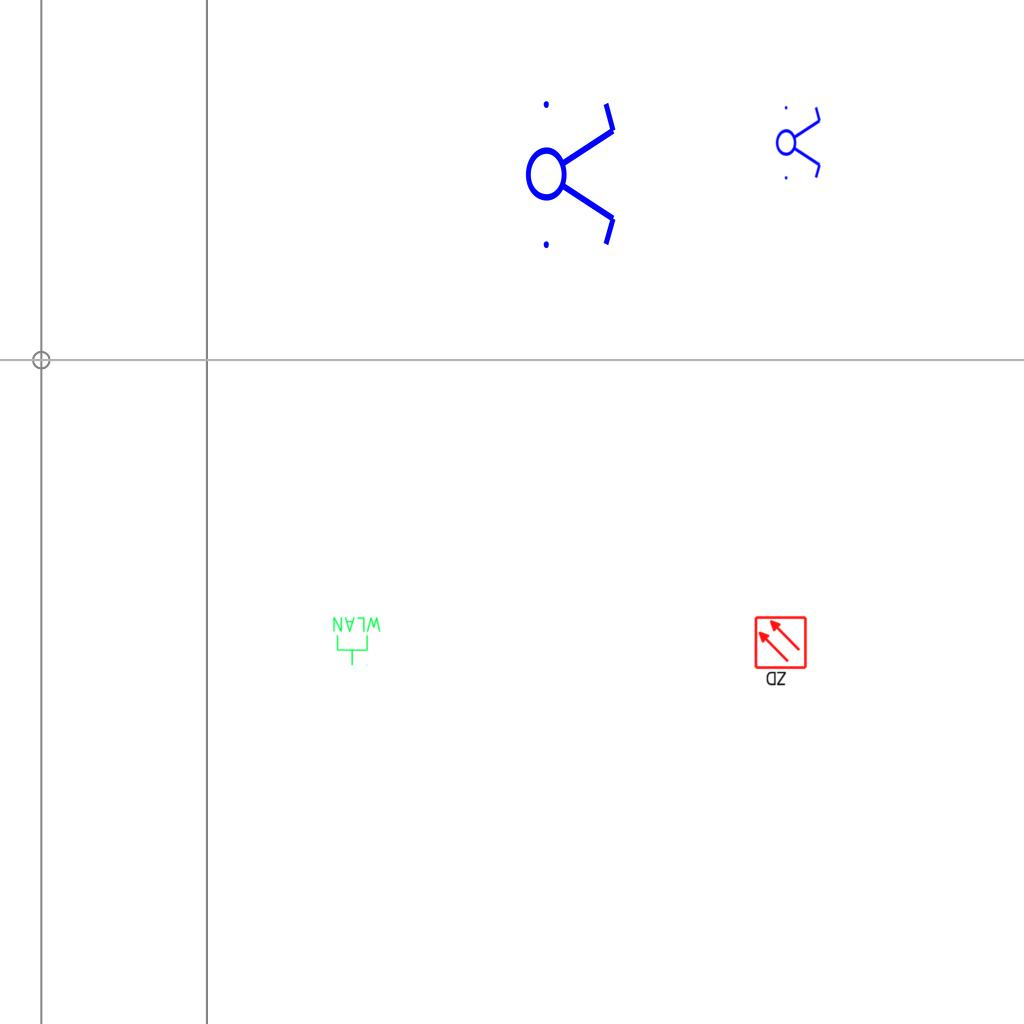Serienschalter: (524, 89, 620, 257), (775, 100, 823, 184)
WLAN: (331, 615, 383, 667)
ZD_Melder_in_Zwischendecke_mit_Revisionsoeffnung_mind_40_x_40_cm: (753, 615, 810, 689)
